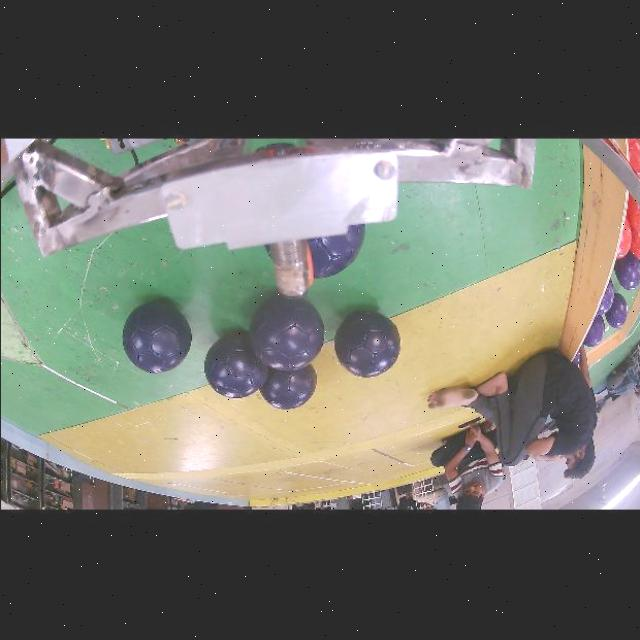B: (249, 294, 323, 369), (122, 298, 190, 372), (332, 311, 399, 376), (203, 330, 267, 397), (307, 222, 365, 277), (259, 363, 316, 408)
P: (614, 250, 640, 289), (605, 292, 627, 326), (583, 314, 605, 346), (596, 277, 614, 314)
R: (616, 216, 630, 257), (625, 192, 640, 229), (627, 137, 640, 179), (629, 227, 640, 257)
